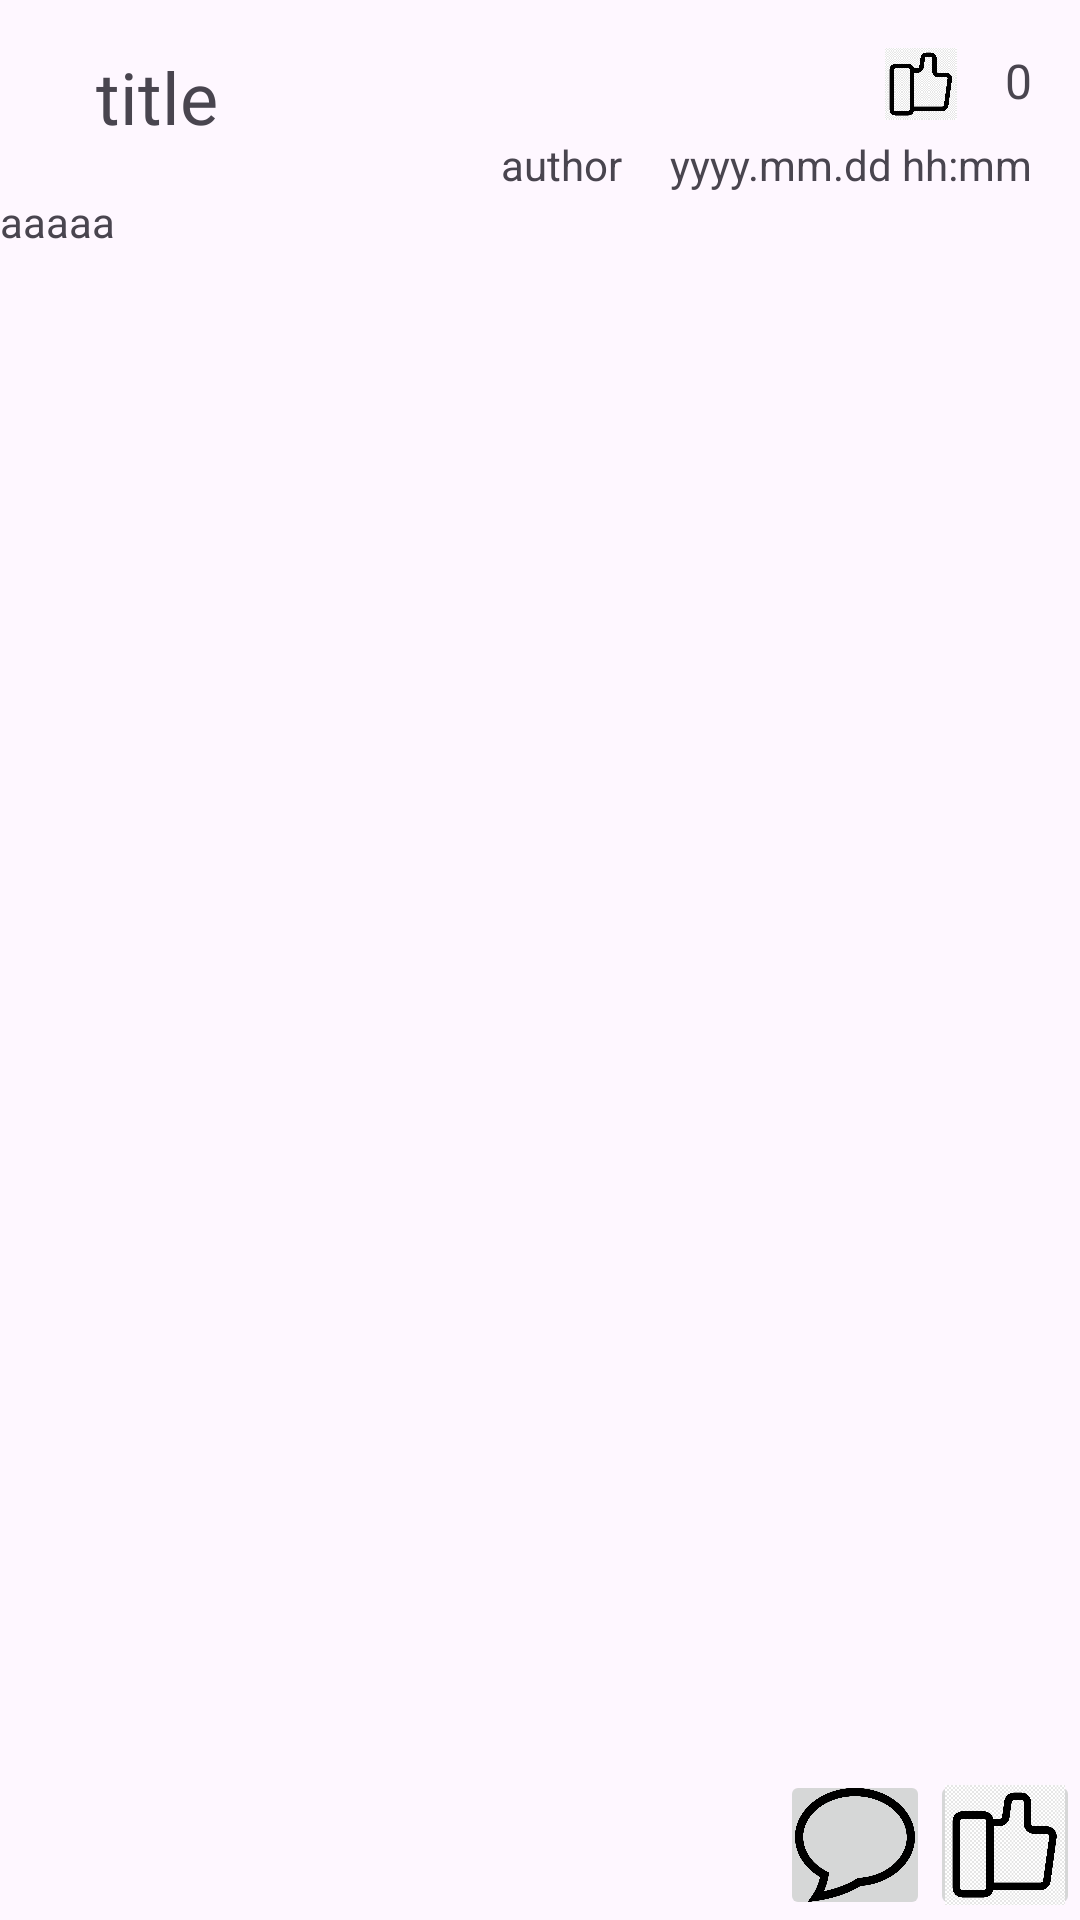

Named icons in this screenshot (1080*1920) and their bounding boxes, [x1, y1, x2, y2]:
like: [885, 48, 957, 120]
댓글: [792, 1788, 918, 1902]
좋아요: [942, 1785, 1068, 1905]
